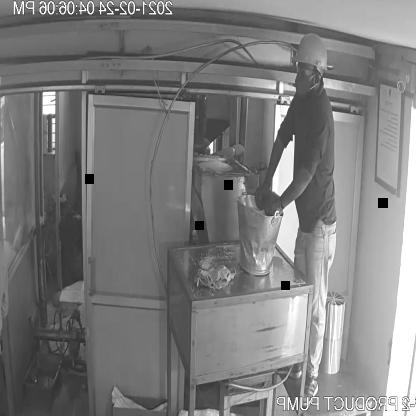helmet: (292, 29, 330, 78)
